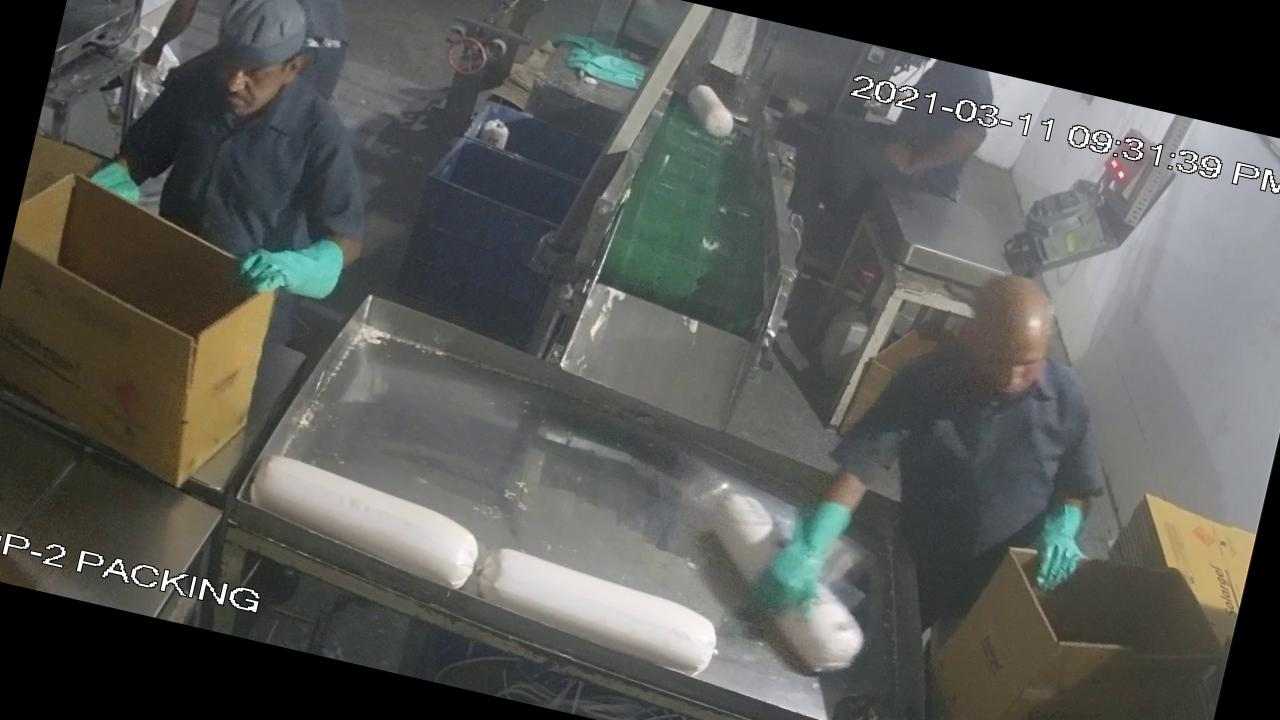Gloves: (716, 480, 882, 656), (1004, 462, 1112, 616)
No-gloves: (862, 103, 1008, 204)
